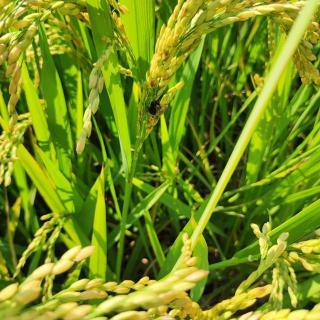Gosong-Palsu: (146, 98, 162, 117)
